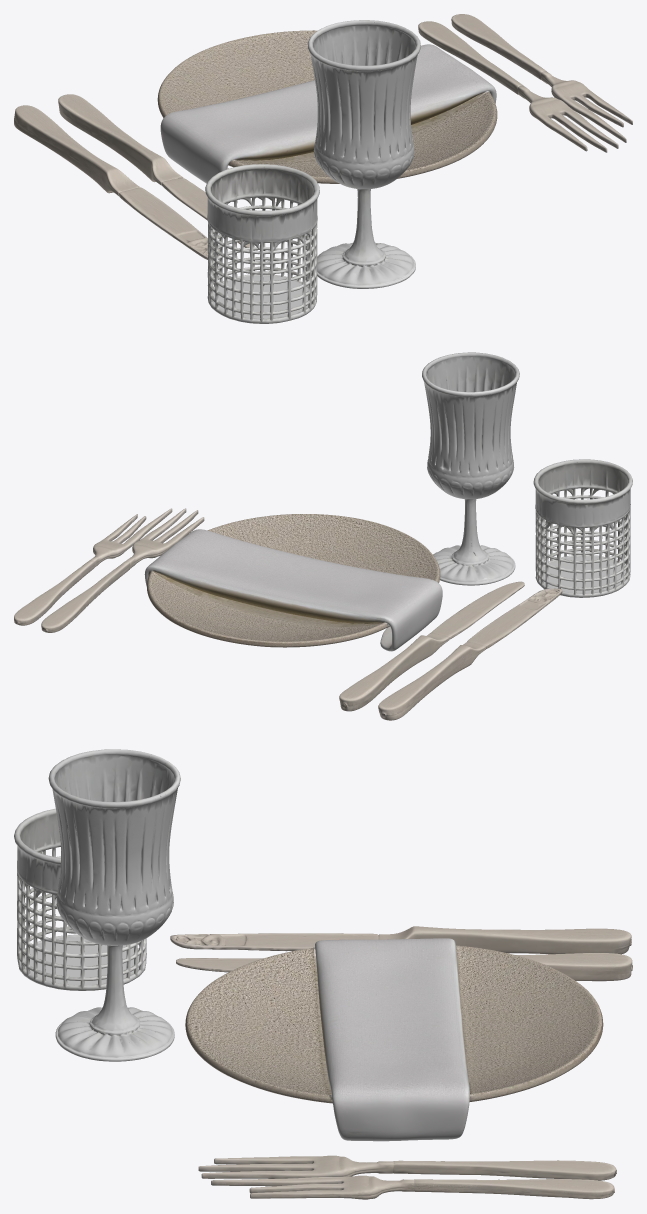
File: decor-place-setting-horizontal.glb
3 renders of one model, top to bottom at view 1: azimuth 30°, elevation 25°; view 2: azimuth 150°, elevation 25°; view 3: azimuth 270°, elevation 25°, orthographic. The views are drawn at different scales.
Visible parts, largest first — view 1: tripo_part_1, tripo_part_2, tripo_part_0, tripo_part_9, tripo_part_4, tripo_part_5, tripo_part_3, tripo_part_6, tripo_part_7, tripo_part_8, tripo_part_10; view 2: tripo_part_1, tripo_part_2, tripo_part_0, tripo_part_9, tripo_part_4, tripo_part_3, tripo_part_10, tripo_part_5, tripo_part_7, tripo_part_6, tripo_part_8; view 3: tripo_part_1, tripo_part_2, tripo_part_0, tripo_part_4, tripo_part_5, tripo_part_7, tripo_part_6, tripo_part_8, tripo_part_3, tripo_part_9, tripo_part_10.
Part boxes in pixels (box(x1,y1,x2,y2)): tripo_part_1: box(157, 30, 497, 183); tripo_part_2: box(307, 20, 420, 288); tripo_part_0: box(205, 164, 319, 323); tripo_part_9: box(58, 94, 183, 185); tripo_part_4: box(14, 105, 140, 195); tripo_part_5: box(517, 85, 618, 152); tripo_part_3: box(119, 187, 219, 259); tripo_part_6: box(541, 71, 632, 142); tripo_part_7: box(418, 21, 522, 94); tripo_part_8: box(451, 14, 546, 79); tripo_part_10: box(161, 178, 249, 247); tripo_part_1: box(144, 514, 442, 651); tripo_part_2: box(422, 352, 519, 585); tripo_part_0: box(533, 459, 632, 597); tripo_part_9: box(339, 632, 449, 711); tripo_part_4: box(378, 641, 486, 720); tripo_part_3: box(467, 588, 562, 648); tripo_part_10: box(431, 581, 524, 639); tripo_part_5: box(126, 508, 204, 568); tripo_part_7: box(41, 561, 129, 632); tripo_part_6: box(90, 508, 172, 567); tripo_part_8: box(14, 560, 94, 625); tripo_part_1: box(185, 938, 603, 1141); tripo_part_2: box(48, 749, 180, 1061); tripo_part_0: box(14, 808, 146, 990); tripo_part_4: box(378, 926, 631, 954); tripo_part_5: box(198, 1155, 397, 1178); tripo_part_7: box(393, 1160, 616, 1180); tripo_part_6: box(211, 1175, 414, 1199); tripo_part_8: box(410, 1179, 614, 1199); tripo_part_3: box(170, 933, 378, 951); tripo_part_9: box(516, 953, 632, 981); tripo_part_10: box(176, 958, 263, 972).
Bounding box in the file's own units: 0.45 × 0.1961 × 0.4217.
11 materials, 11 textured.
